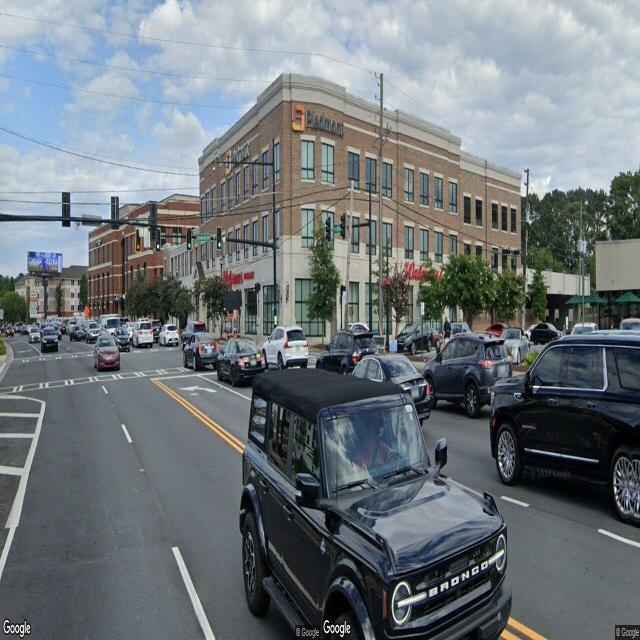seating: (373, 335, 386, 354)
